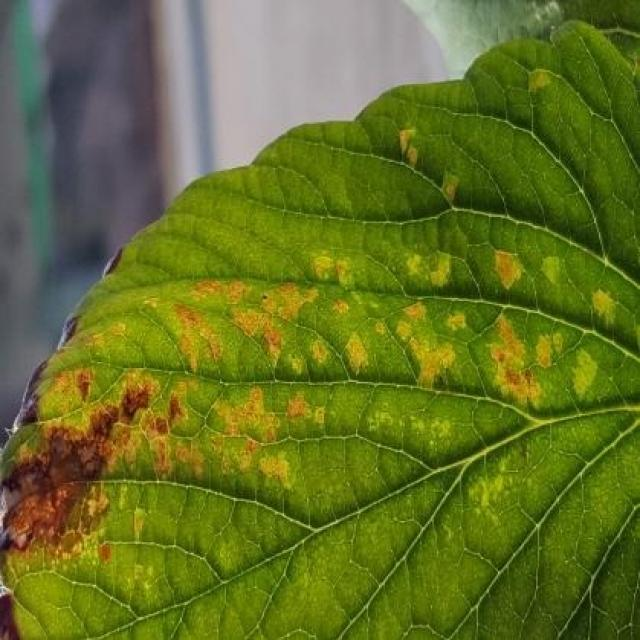Angular Leafspot: (0, 63, 632, 638)
